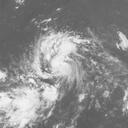cyclone: (35, 33, 80, 79)
